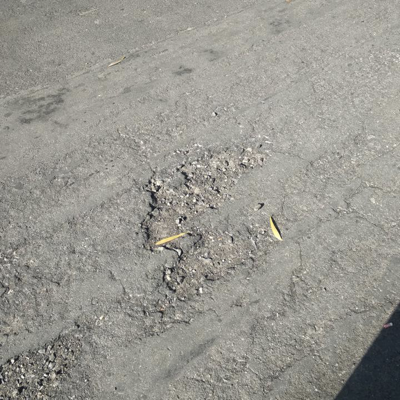pothole: (136, 146, 280, 297), (0, 331, 88, 400)
